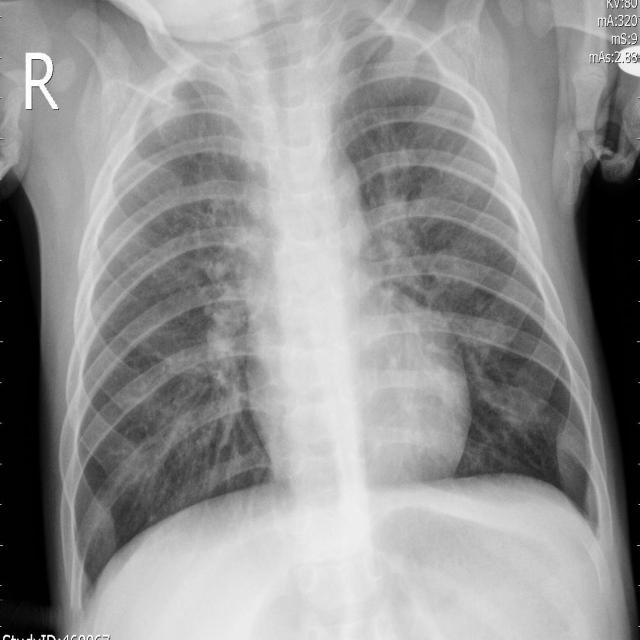low-pneumonia: (180, 237, 253, 451), (358, 197, 481, 323)
